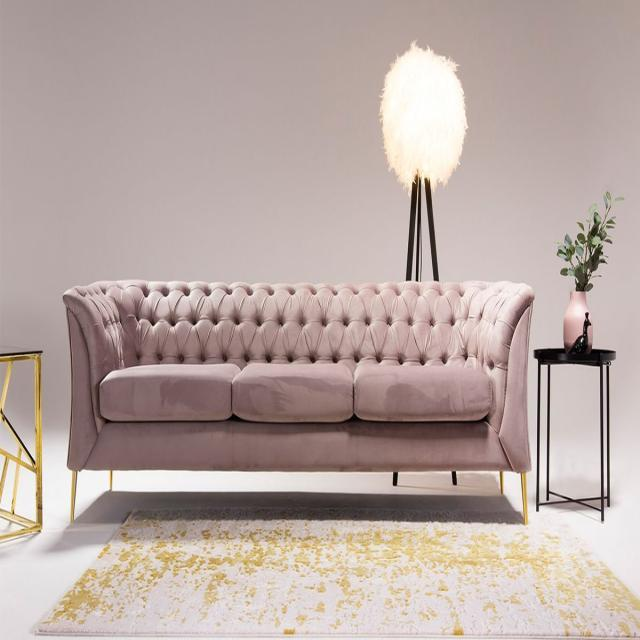sofa: (61, 276, 535, 526)
